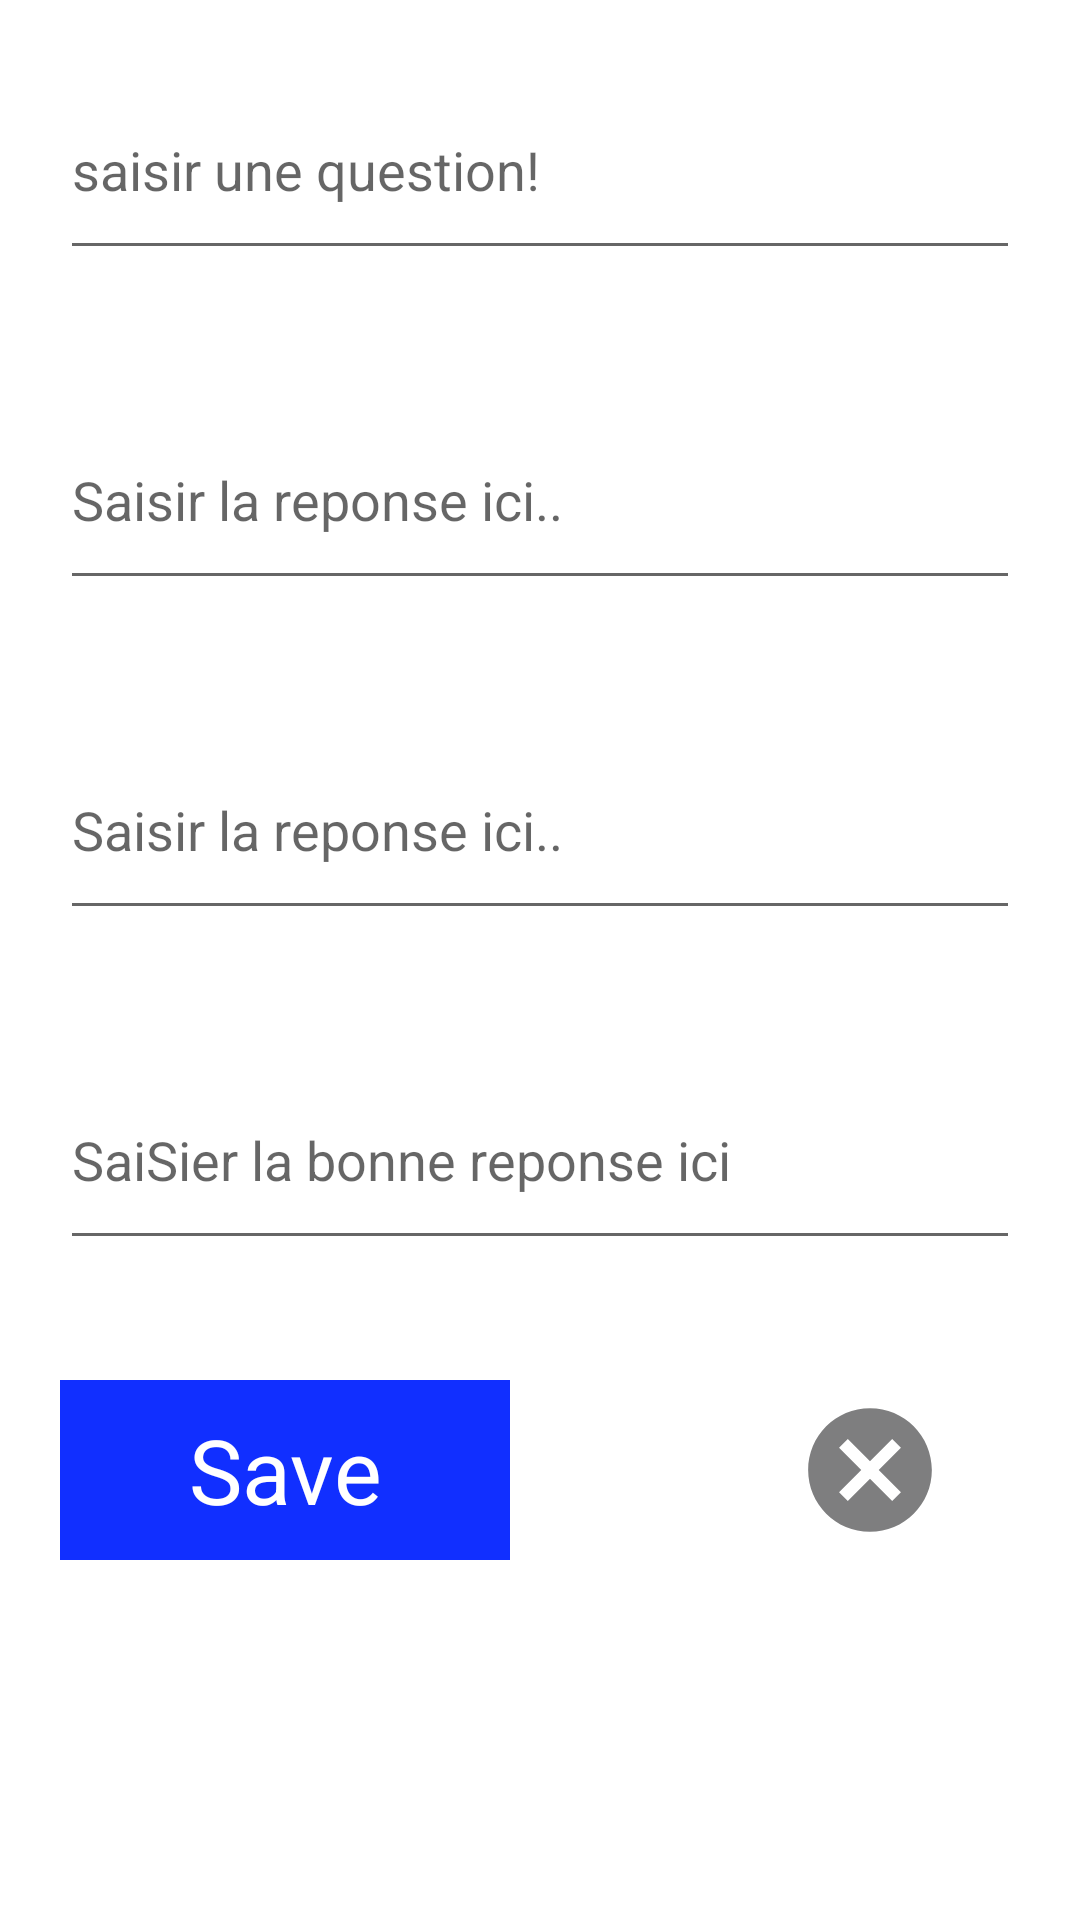

Locate icon controls on the screen. Image size 1080x1920, boxes as bbox=[x1, y1, x2, y2].
cancel: bbox=[808, 1408, 932, 1532]
